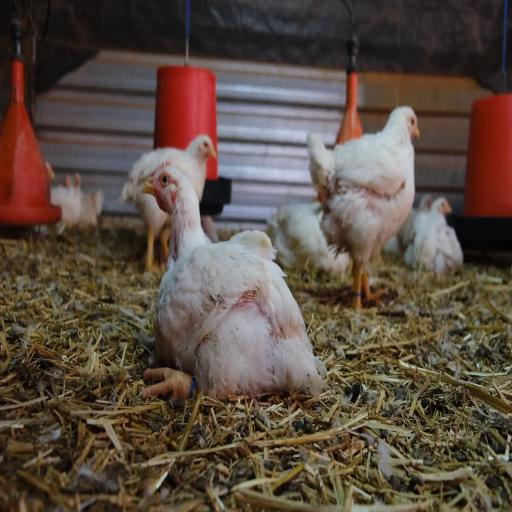healthy: (142, 160, 193, 211), (396, 95, 430, 151)
